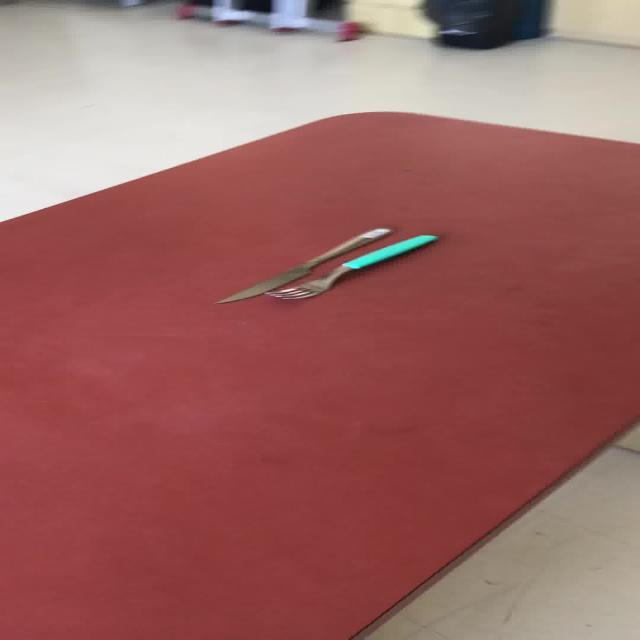fork: (265, 233, 438, 300)
knife fork: (213, 226, 393, 304)
